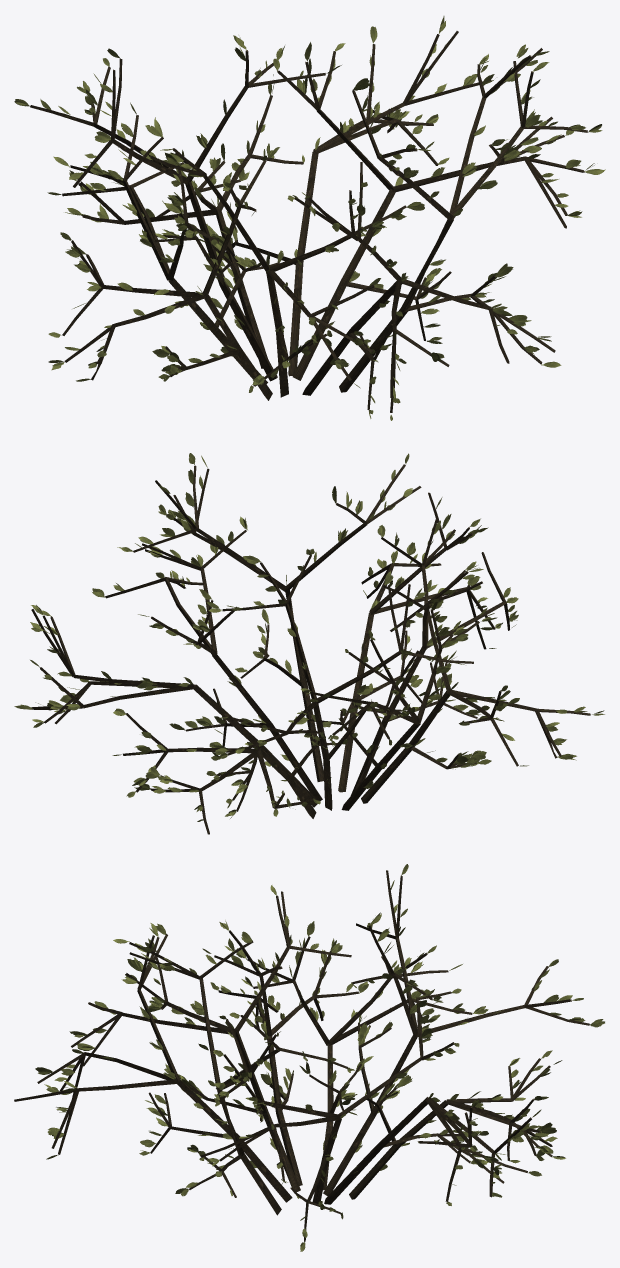
Rendered from thorn_scrub_v02_LOD1.fbx.
3 views of the same model, one above another, from view 1: azimuth 30°, elevation 25°; view 2: azimuth 150°, elevation 25°; view 3: azimuth 270°, elevation 25° (orthographic). The views are drawn at different scales.
Visible parts, largest first — view 1: thorn_scrub_v02_LOD1; view 2: thorn_scrub_v02_LOD1; view 3: thorn_scrub_v02_LOD1.
Boxes of the visible parts, x1=… form: thorn_scrub_v02_LOD1: x1=14, y1=16, x2=605, y2=420; thorn_scrub_v02_LOD1: x1=14, y1=453, x2=604, y2=834; thorn_scrub_v02_LOD1: x1=14, y1=864, x2=604, y2=1251.
Bounding box in the file's own units: 340 × 192 × 360.
2 materials, 2 textured.
